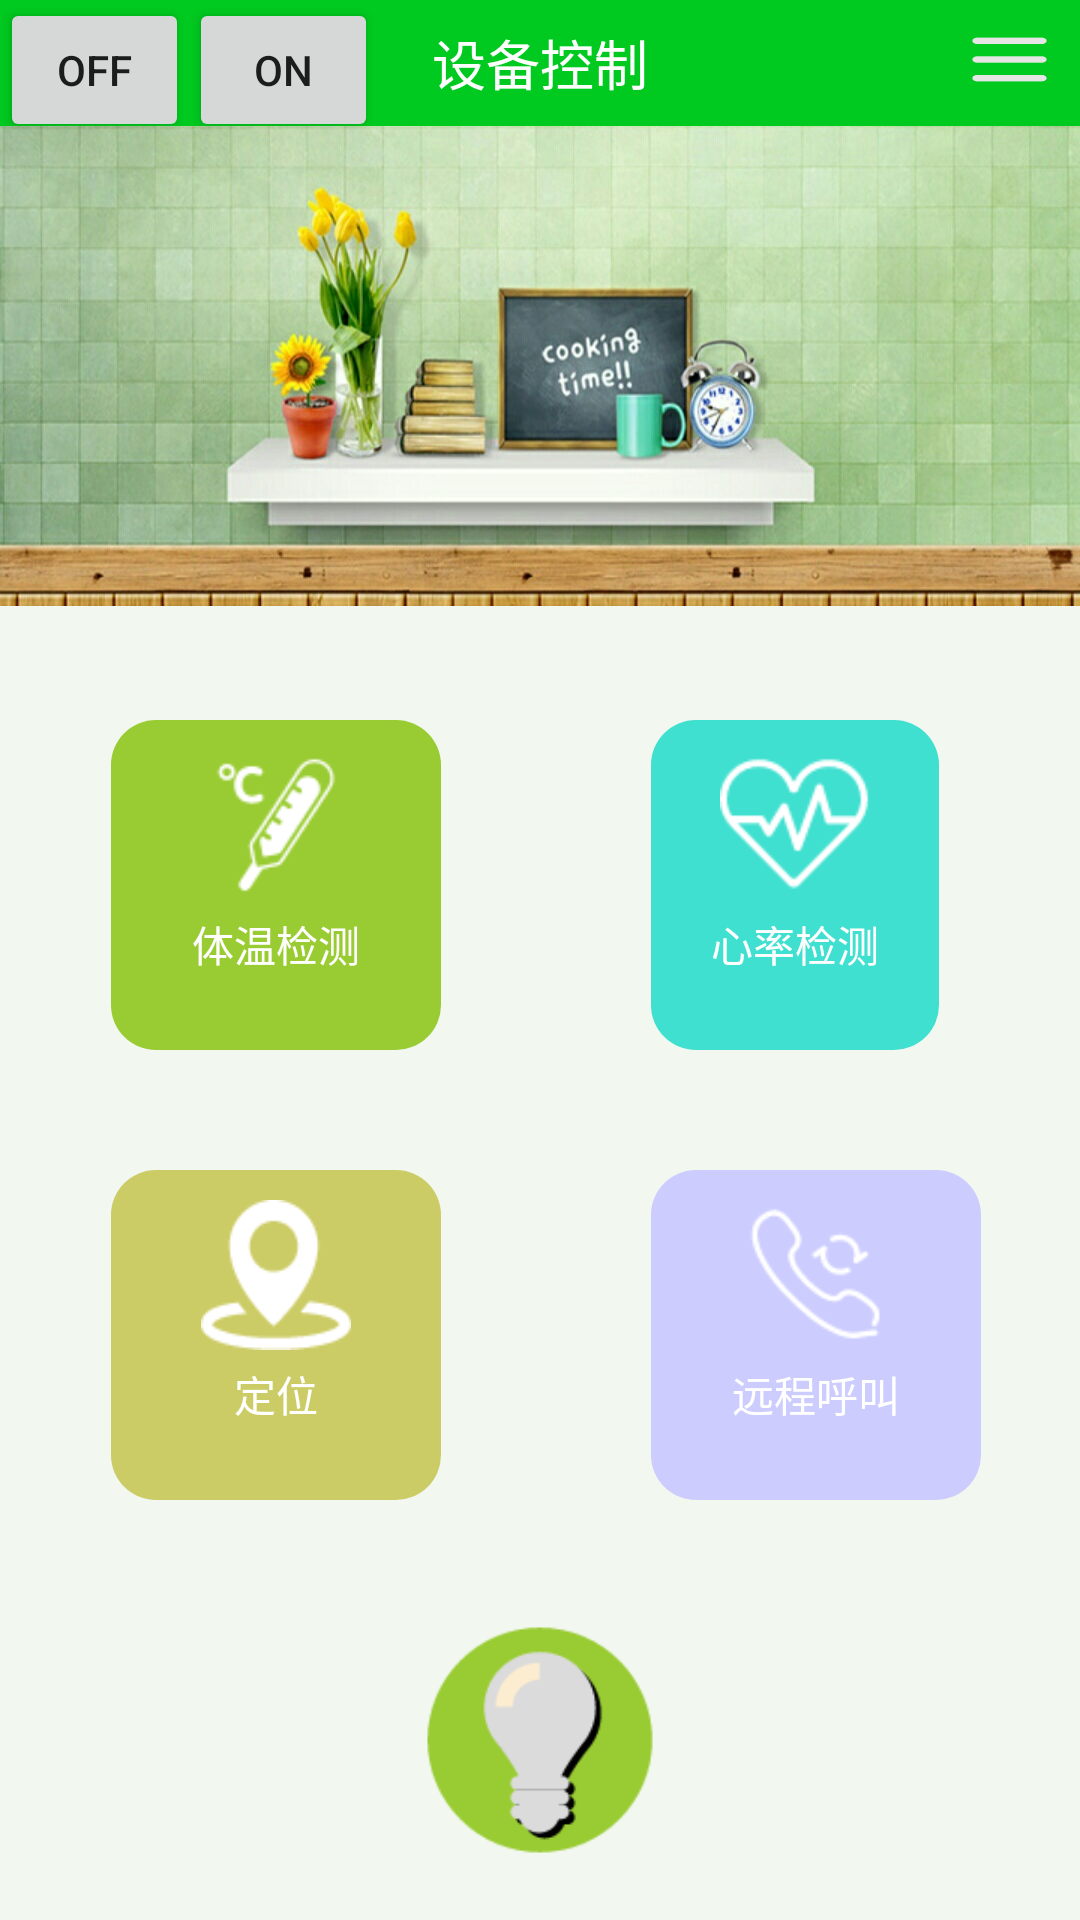

Icon bounding boxes for this 1080px×1920px phone screenshot, format (x1, y1, x2, y2):
menu: (972, 37, 1047, 82)
